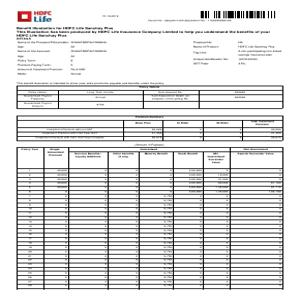image: (15, 7, 54, 24)
table: (17, 147, 283, 288), (17, 116, 284, 141), (17, 86, 282, 108)
text: (16, 41, 112, 79), (15, 26, 273, 40), (192, 40, 284, 68), (16, 81, 165, 85), (134, 143, 166, 147)
